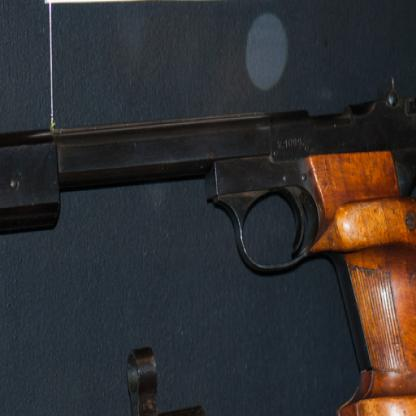gun: (0, 79, 415, 415)
